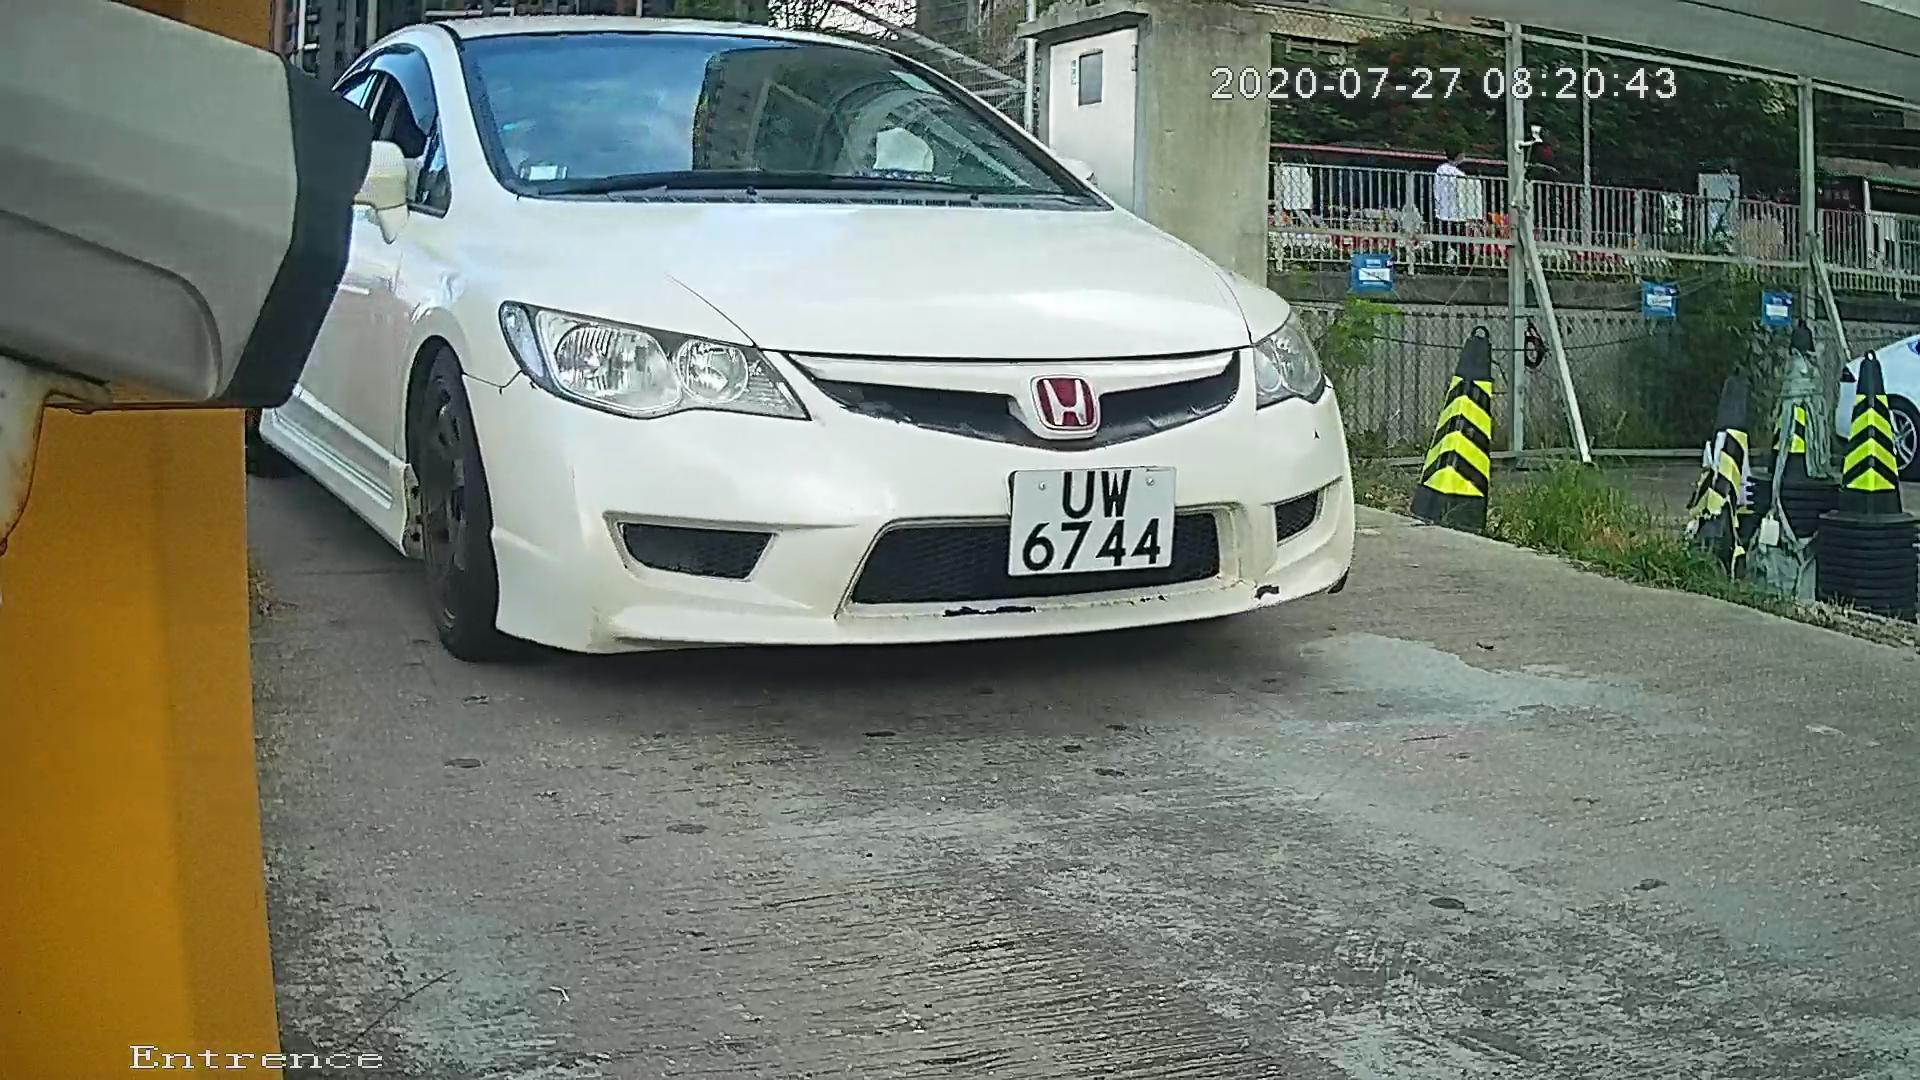License Plate: (978, 452, 1189, 579)
